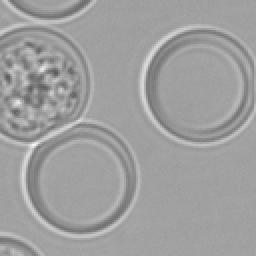picoshell: (20, 118, 140, 238), (138, 24, 254, 146), (0, 24, 92, 146), (2, 0, 96, 22), (0, 230, 44, 254)
